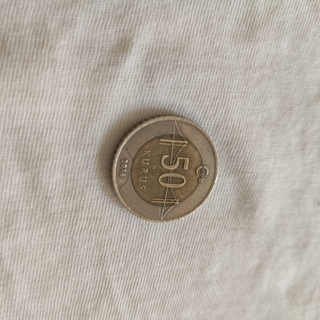50KURUS: (109, 112, 219, 223)
